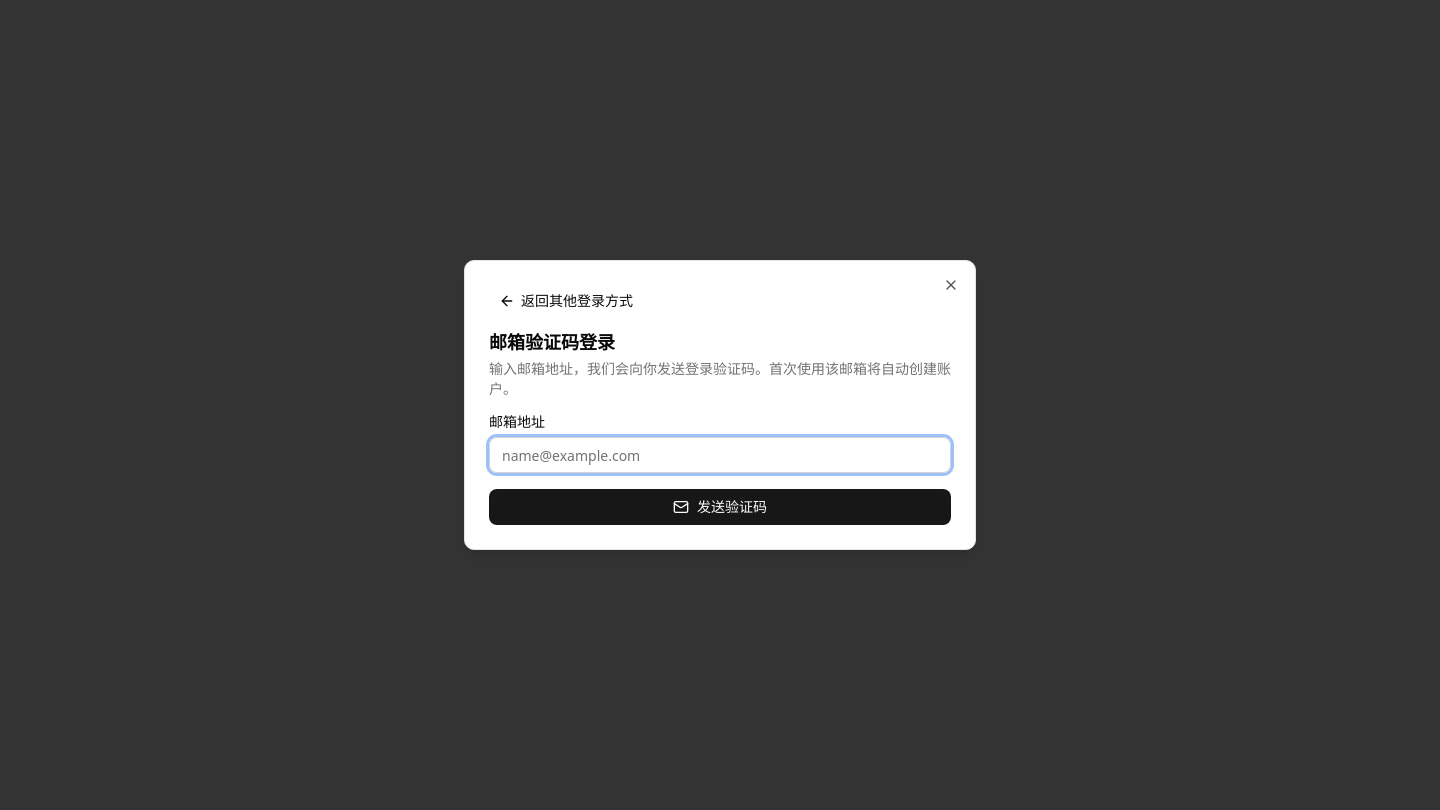
Scenario: EmailCodeLoginPanel › invalid_code 清空验证码、显示行内错误并重新聚焦
Type " user@example.com " into the field labelled "邮箱地址".
click(720, 455); type(" user@example.com ")  # box [489,437,951,473]
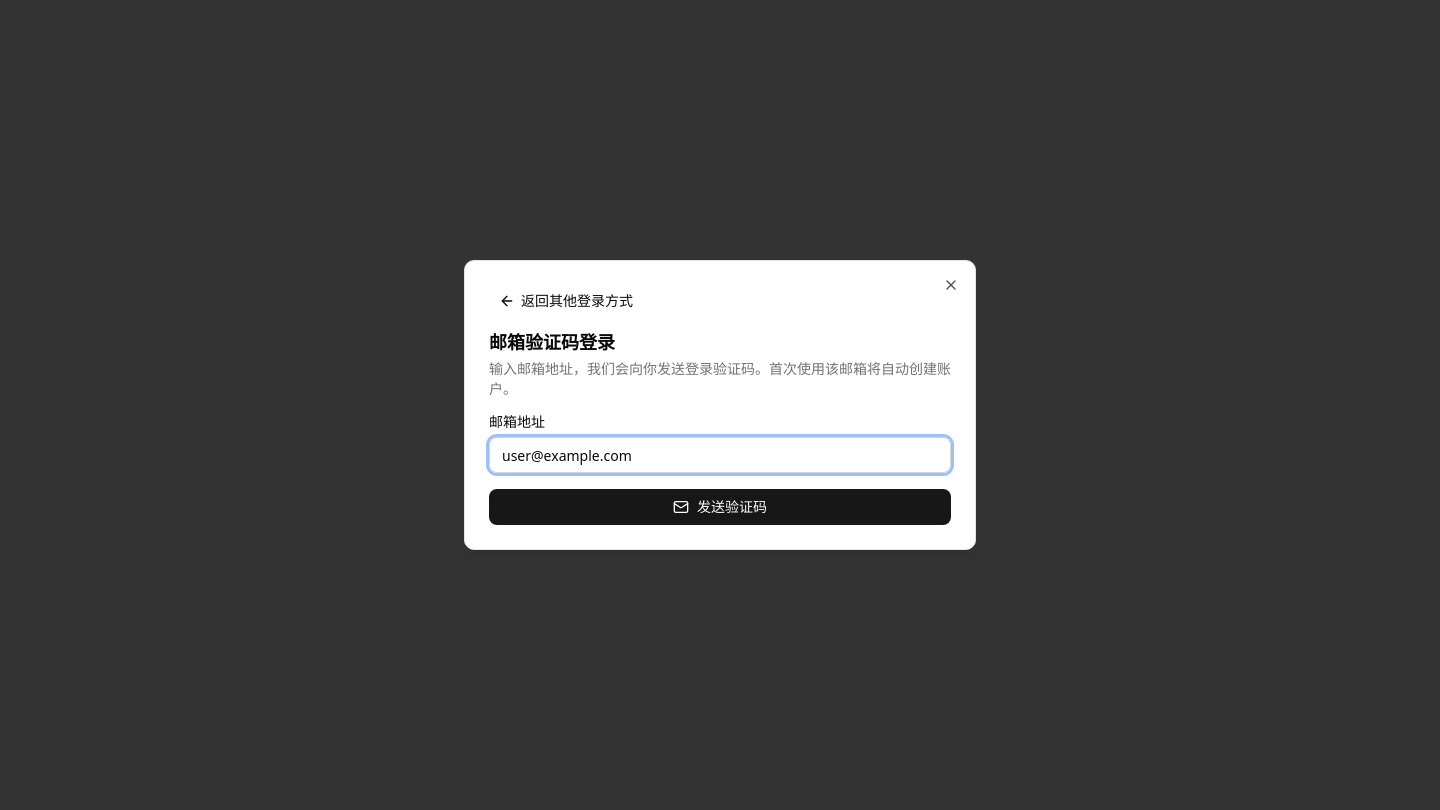
Click the button "发送验证码".
click(720, 507)  # box [489,489,951,525]
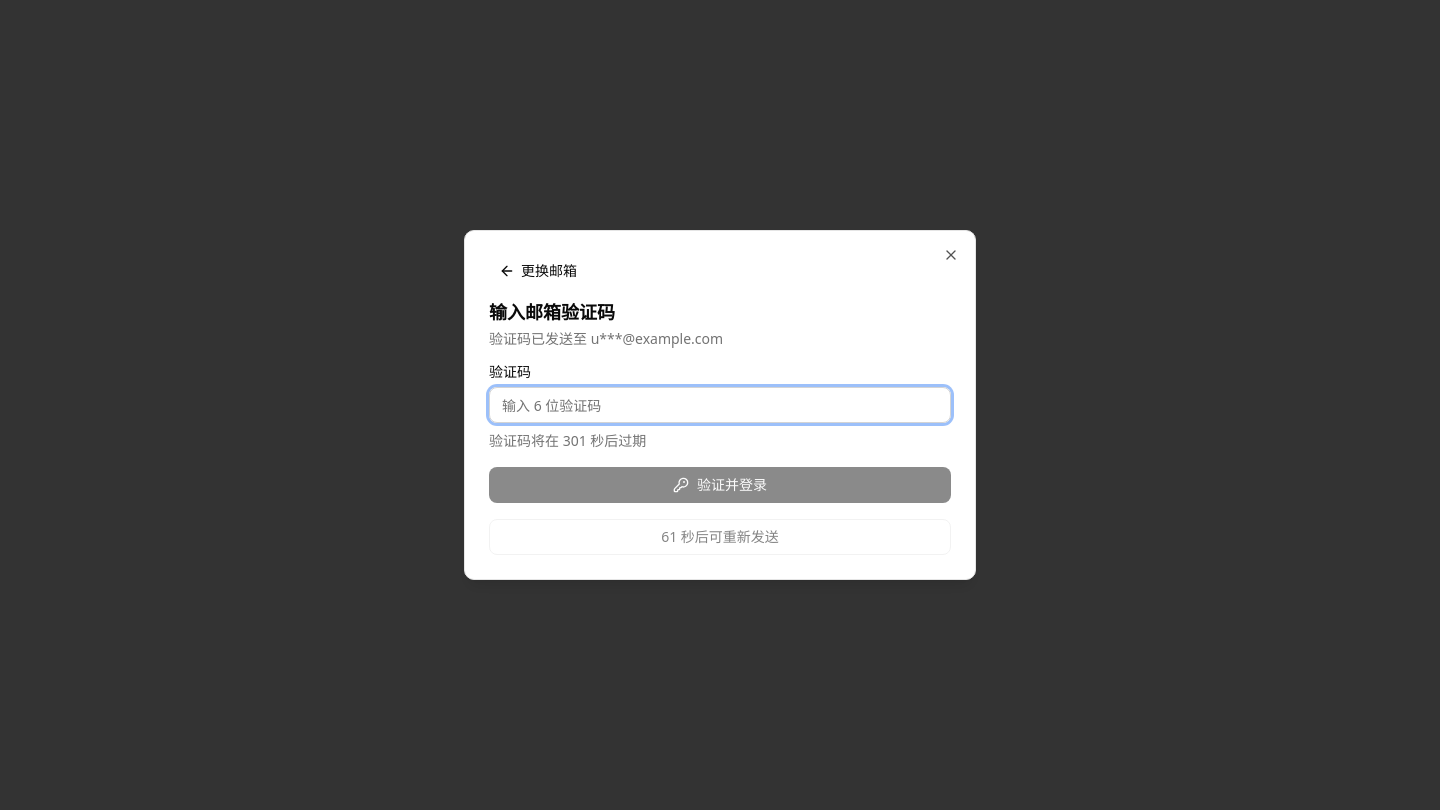
Result: the text "验证码已发送至 u***@example.com" is shown at [489,329,723,348]
Type "123456" into the field labelled "验证码".
click(720, 405); type("123456")  # box [489,387,951,423]
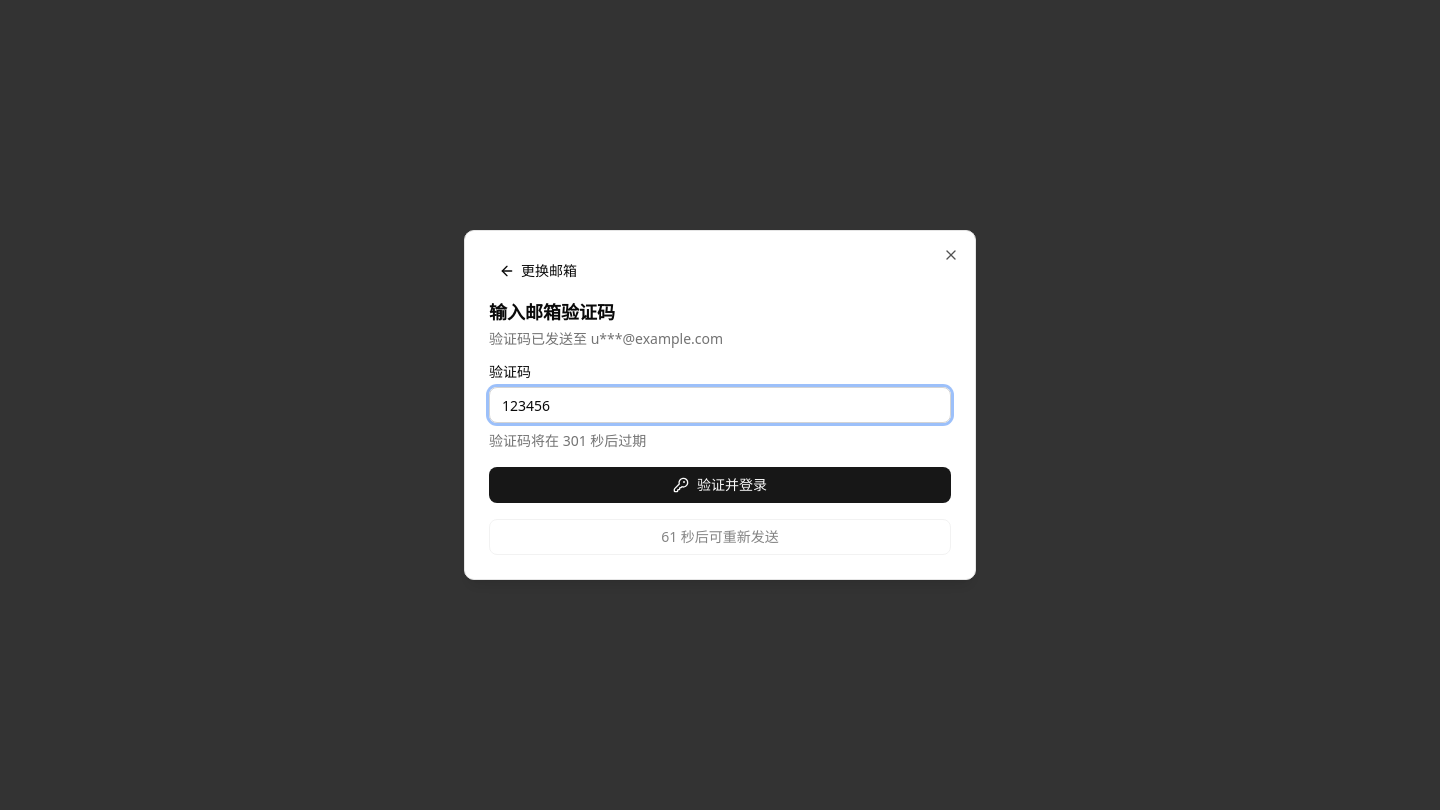
Click the button "验证并登录".
click(720, 485)  # box [489,467,951,503]
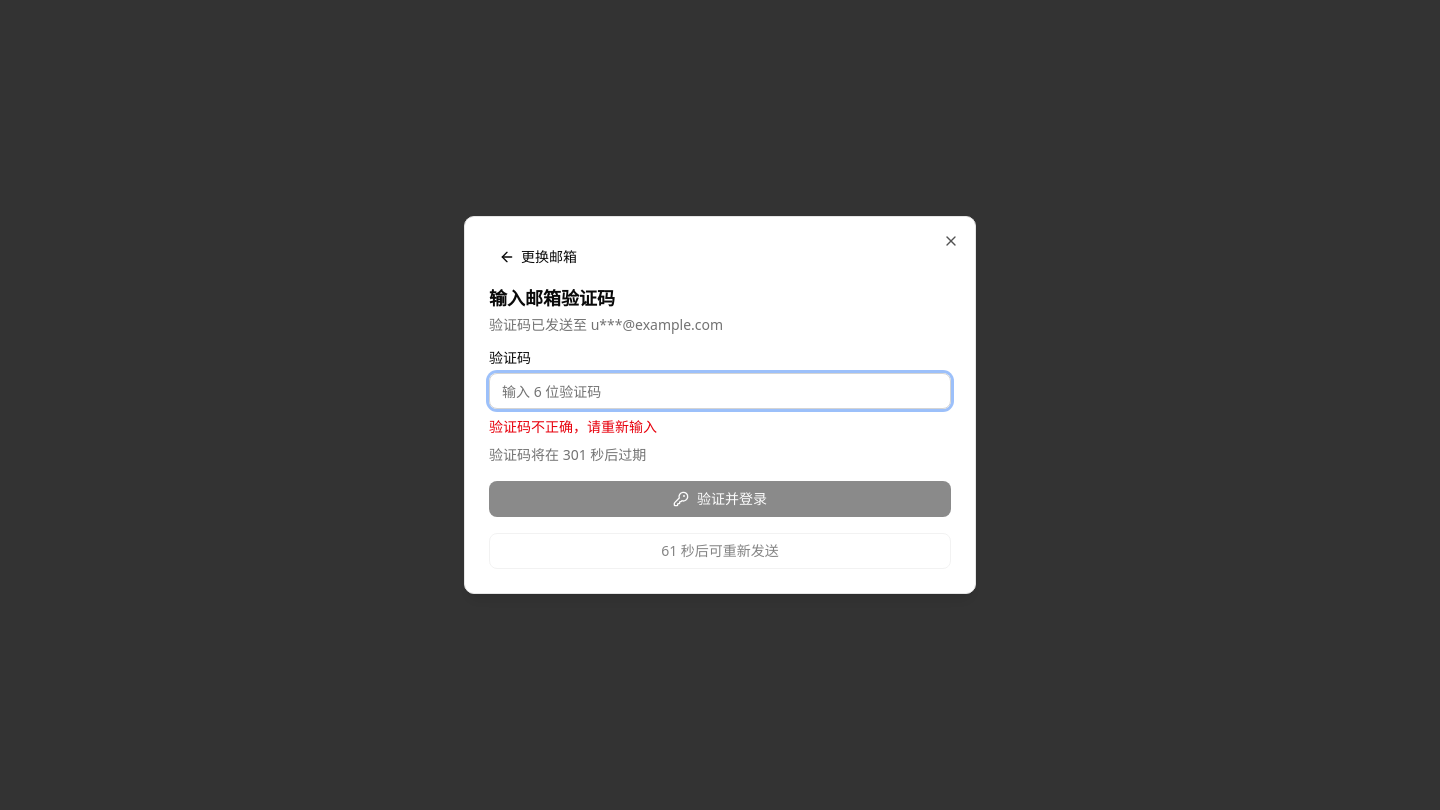
Result: the field labelled "验证码" is empty at [489,373,951,409]
Result: the message reads "验证码不正确，请重新输入" at [489,417,657,436]
